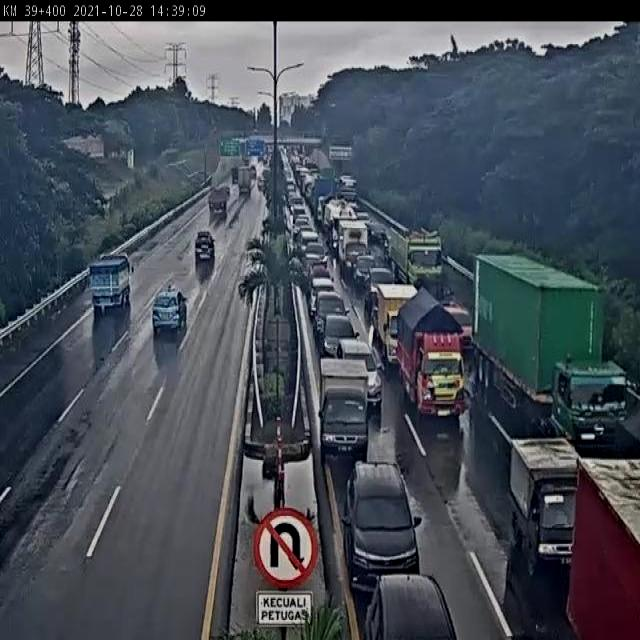Car: (339, 458, 424, 593), (362, 574, 460, 640), (334, 336, 384, 410), (314, 290, 349, 344), (320, 312, 358, 361), (152, 286, 187, 334), (440, 303, 475, 348), (364, 265, 396, 301), (308, 277, 335, 318), (308, 260, 335, 285), (367, 224, 389, 254), (305, 240, 328, 268), (298, 230, 320, 258), (195, 230, 215, 260), (290, 218, 310, 239), (303, 251, 320, 274)
Truck: (471, 251, 630, 450), (508, 436, 586, 577), (396, 285, 472, 419), (317, 358, 370, 459), (375, 282, 421, 366), (388, 222, 447, 286), (89, 254, 135, 314), (334, 216, 369, 280), (323, 198, 359, 255), (313, 177, 336, 226), (208, 187, 229, 215), (237, 166, 253, 196), (338, 175, 357, 199), (231, 166, 238, 183)
